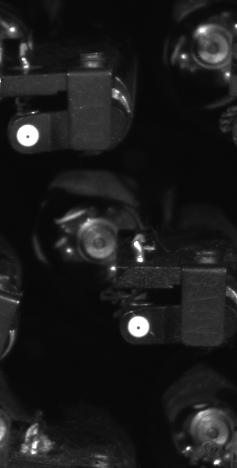fiber: (13, 118, 45, 153), (125, 312, 154, 343)
